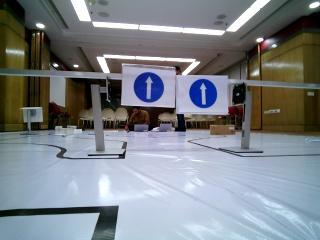straight: (123, 65, 173, 105), (179, 75, 226, 114)
